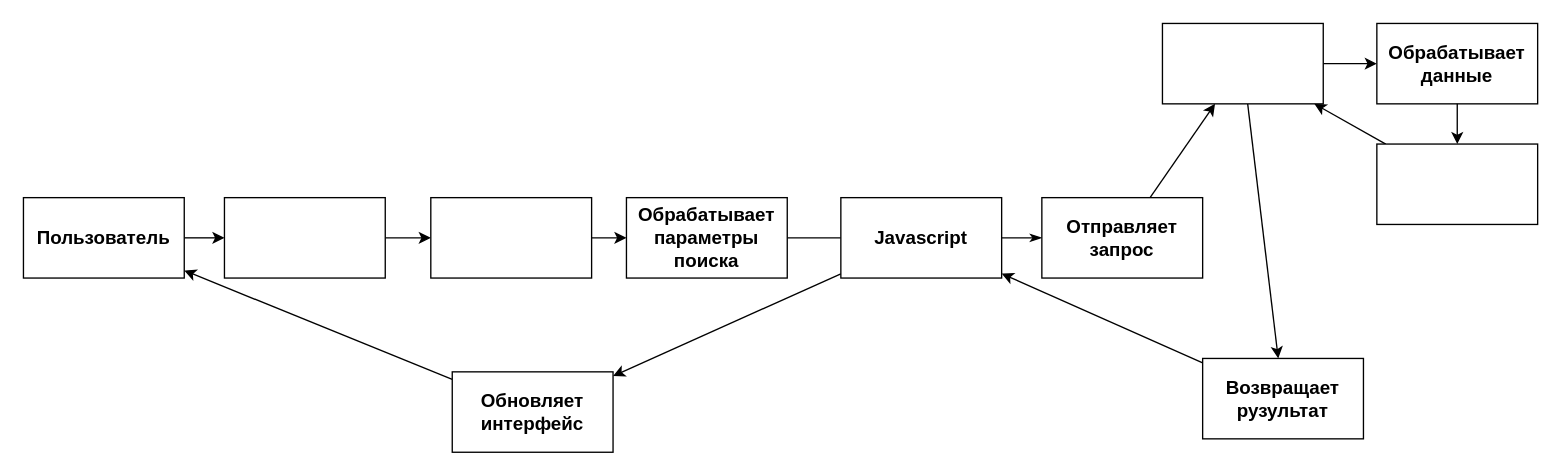
Image size: 1561x476. Some labels were removed from this diagram. The centre of each missing label's shape, as x and y in pixels:
"API" belongs at point (1242, 63).
"Вводит подходящие фильтры для поиска" belongs at point (510, 237).
"Возвращает результат" belongs at point (1457, 183).
"Регистрируется" belongs at point (304, 237).
